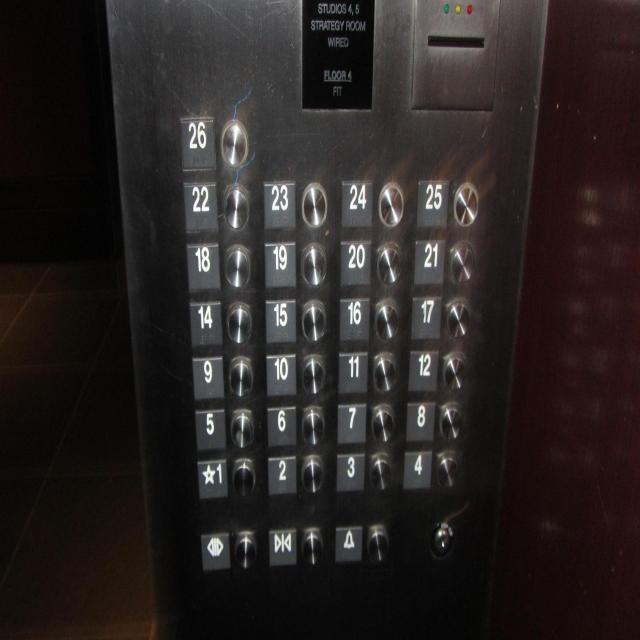10: (264, 352, 298, 399)
11: (338, 350, 370, 396)
12: (407, 348, 440, 393)
14: (188, 299, 224, 350)
15: (264, 299, 297, 346)
16: (338, 296, 371, 342)
17: (410, 295, 442, 340)
18: (185, 241, 222, 292)
19: (262, 241, 298, 289)
2: (266, 454, 298, 497)
20: (338, 238, 373, 288)
21: (413, 238, 445, 286)
22: (181, 181, 220, 234)
23: (263, 180, 298, 232)
24: (339, 180, 374, 228)
25: (416, 178, 449, 229)
26: (180, 115, 217, 173)
3: (334, 451, 366, 494)
4: (402, 448, 433, 492)
5: (193, 406, 227, 454)
6: (265, 404, 298, 449)
7: (336, 402, 368, 445)
8: (404, 398, 436, 444)
9: (191, 354, 225, 403)
alarm: (334, 523, 363, 565)
close: (267, 526, 298, 568)
empty: (218, 116, 250, 170), (222, 182, 250, 232), (300, 181, 328, 229), (452, 180, 480, 228), (224, 243, 252, 290), (300, 241, 327, 288), (449, 239, 475, 287), (225, 300, 252, 346), (227, 354, 254, 399), (378, 182, 404, 228), (376, 242, 402, 288), (300, 297, 326, 343), (371, 350, 398, 394), (369, 402, 396, 446), (368, 452, 394, 497), (374, 298, 400, 342), (232, 528, 258, 572), (229, 406, 254, 450), (435, 448, 460, 492), (231, 456, 256, 499), (300, 353, 326, 394), (445, 298, 471, 339), (442, 351, 468, 392), (301, 406, 326, 447), (439, 401, 464, 442), (366, 522, 390, 564), (300, 527, 324, 568), (300, 455, 324, 493)
keyhole: (430, 518, 453, 559)
open: (199, 530, 232, 572)
s1: (196, 457, 229, 501)
